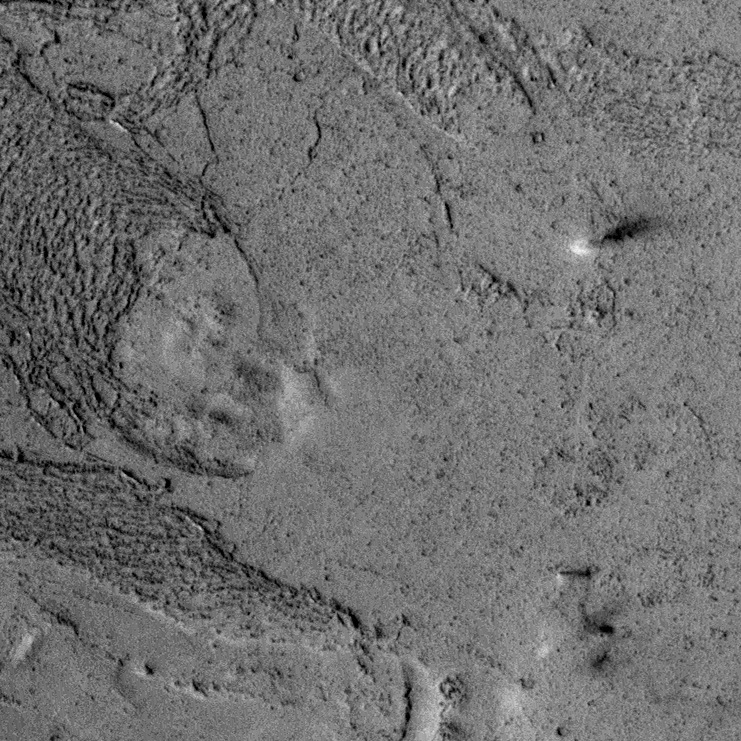dust_devil: (566, 216, 654, 258)
